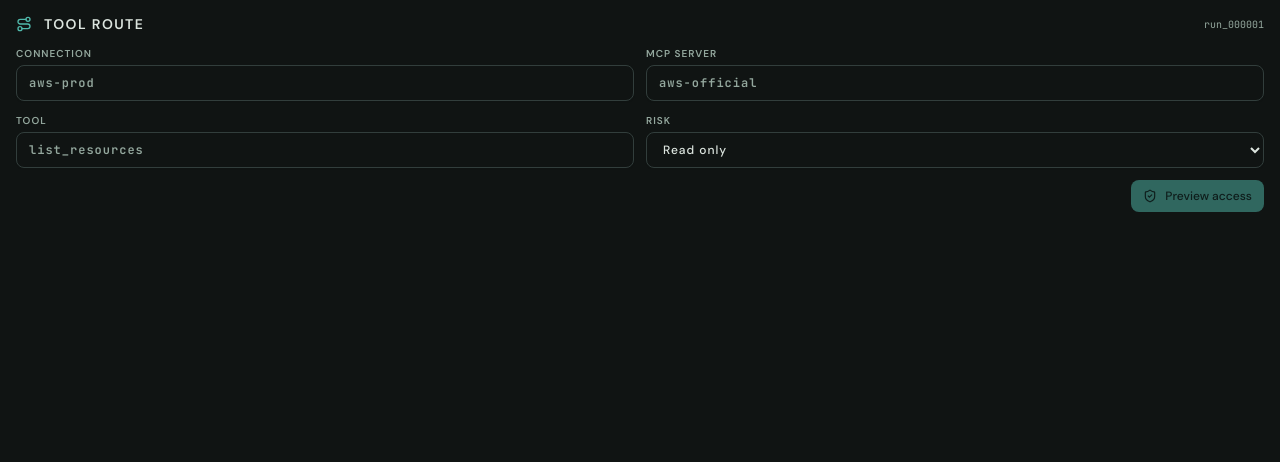
Scenario: ToolRoutePreviewPanel › submits a normalized route and renders the decision
Expected: the button "Preview access" is disabled, [1131, 180, 1264, 212]
Step 1. Type "  aws-prod  " into the field labelled "Connection" → (325, 83), box [16, 65, 634, 101]
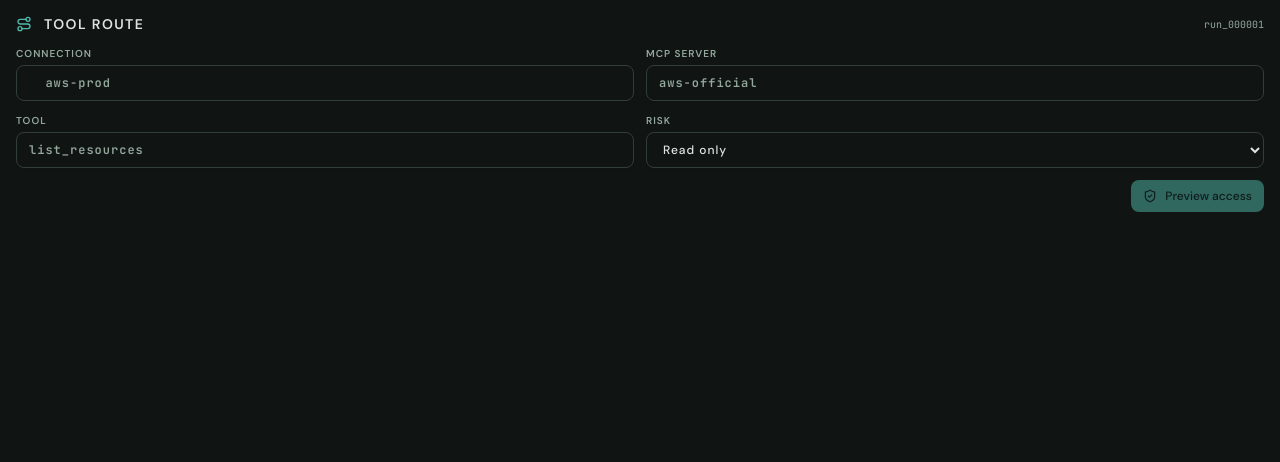
Step 2. Type " aws-official " into the field labelled "MCP server" → (955, 83), box [646, 65, 1264, 101]
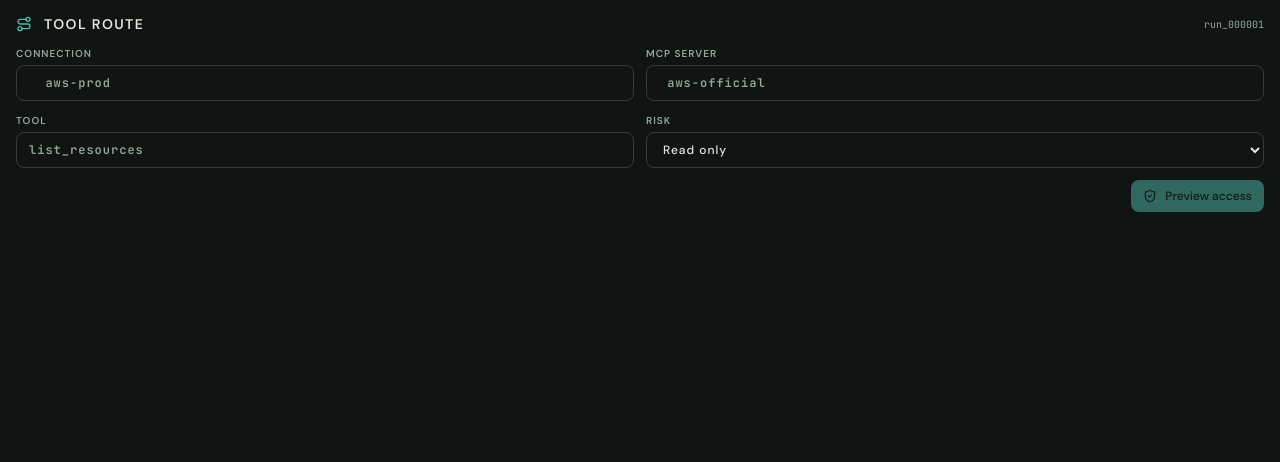
Step 3. Type " list_resources " into the field labelled "Tool" → (325, 150), box [16, 132, 634, 168]
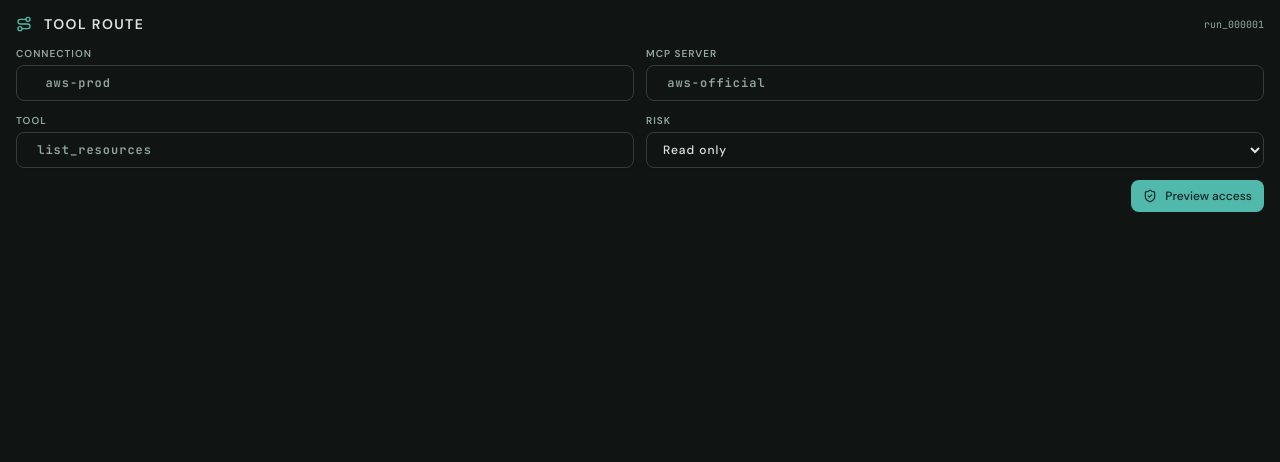
Step 4. Click the button "Preview access" → (1198, 196), box [1131, 180, 1264, 212]
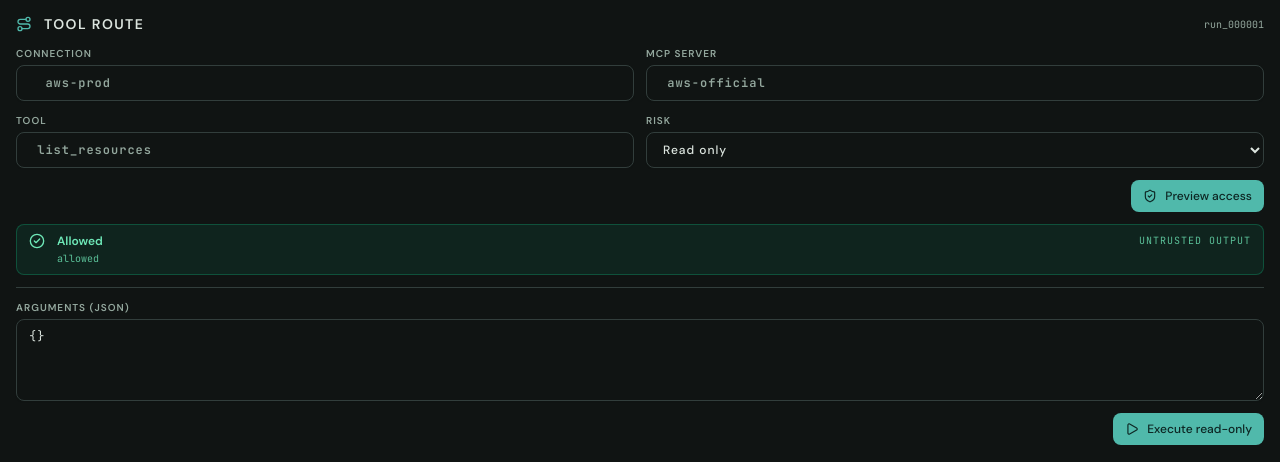
Now the text "Allowed" is shown, box [57, 233, 103, 249]
Now the text "Untrusted output" is shown, box [1139, 233, 1251, 248]
Step 5. Type "get_resources" into the field labelled "Tool" → (325, 150), box [16, 132, 634, 168]
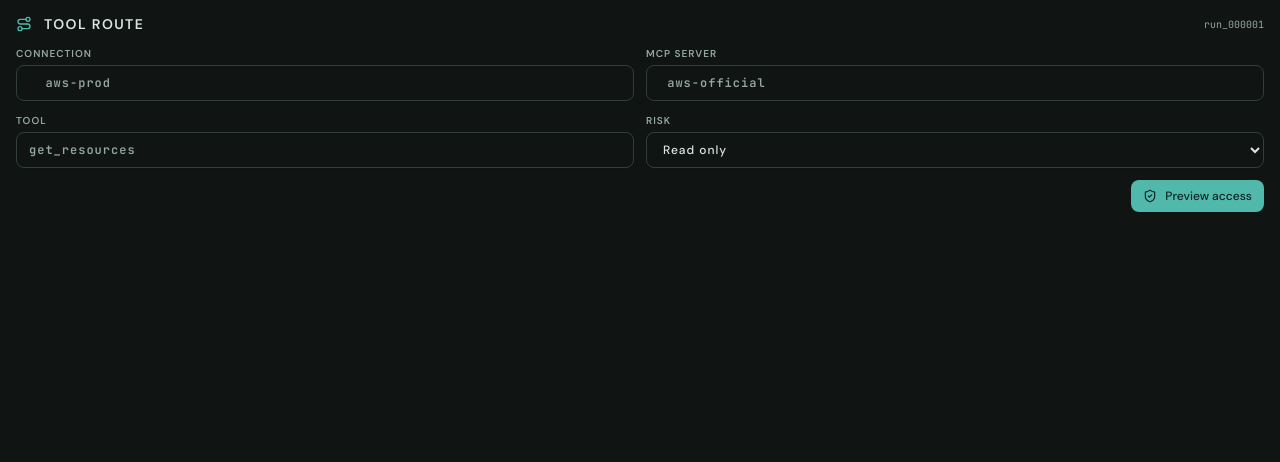
Now the text "Allowed" is gone
